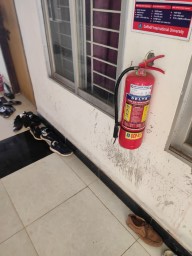fire_extinguisher: (40, 35, 113, 105)
